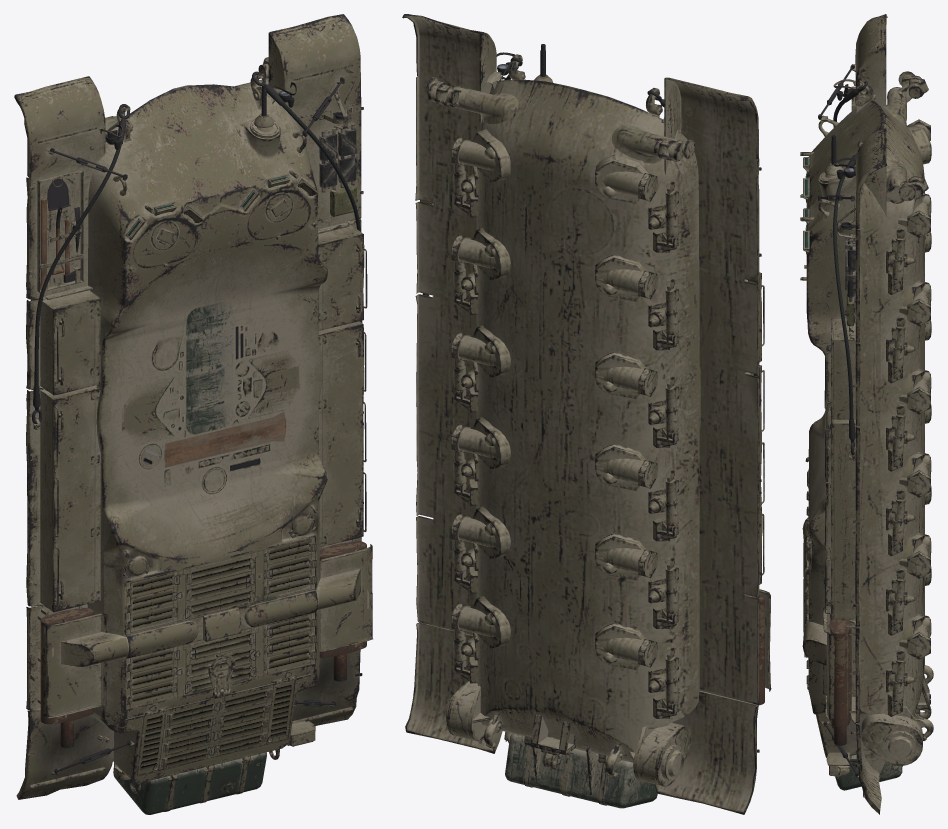
The model's file is Hull.glb.
The picture shows the model from 3 angles, left to right: view 1: azimuth 30°, elevation 25°; view 2: azimuth 150°, elevation 25°; view 3: azimuth 270°, elevation 25°; orthographic projection. The views are drawn at different scales.
Visible parts, largest first — view 1: set_0_group_0; view 2: set_0_group_0; view 3: set_0_group_0.
Boxes of the visible parts, x1,y1,x2,y2 form: set_0_group_0: [14, 14, 372, 814]; set_0_group_0: [402, 14, 771, 814]; set_0_group_0: [800, 14, 933, 814].
Bounding box in the file's own units: 3.54 × 7.4 × 1.31.
Materials: 1 (1 with a texture image).
